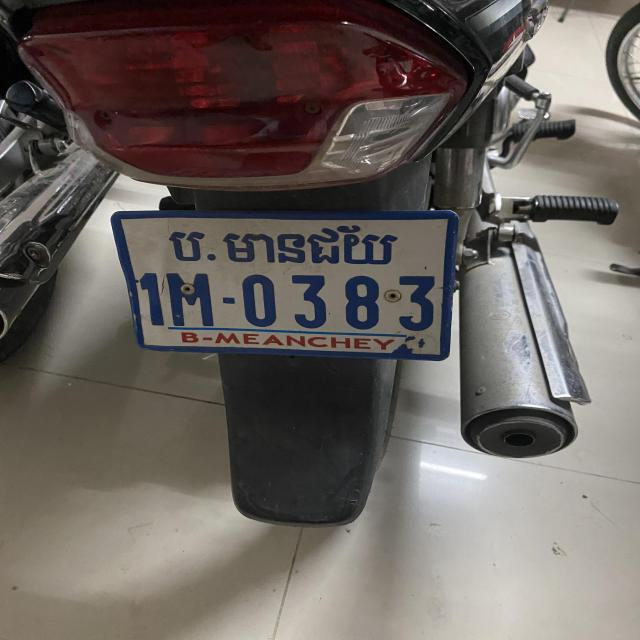Banteay_Meanchey: (164, 217, 400, 274)
